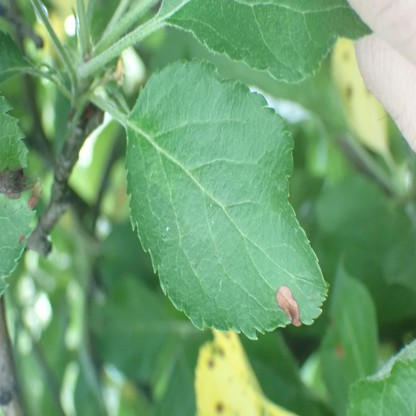frogeye_leaf_spot: (275, 284, 302, 326), (0, 166, 27, 199), (28, 181, 41, 211)
